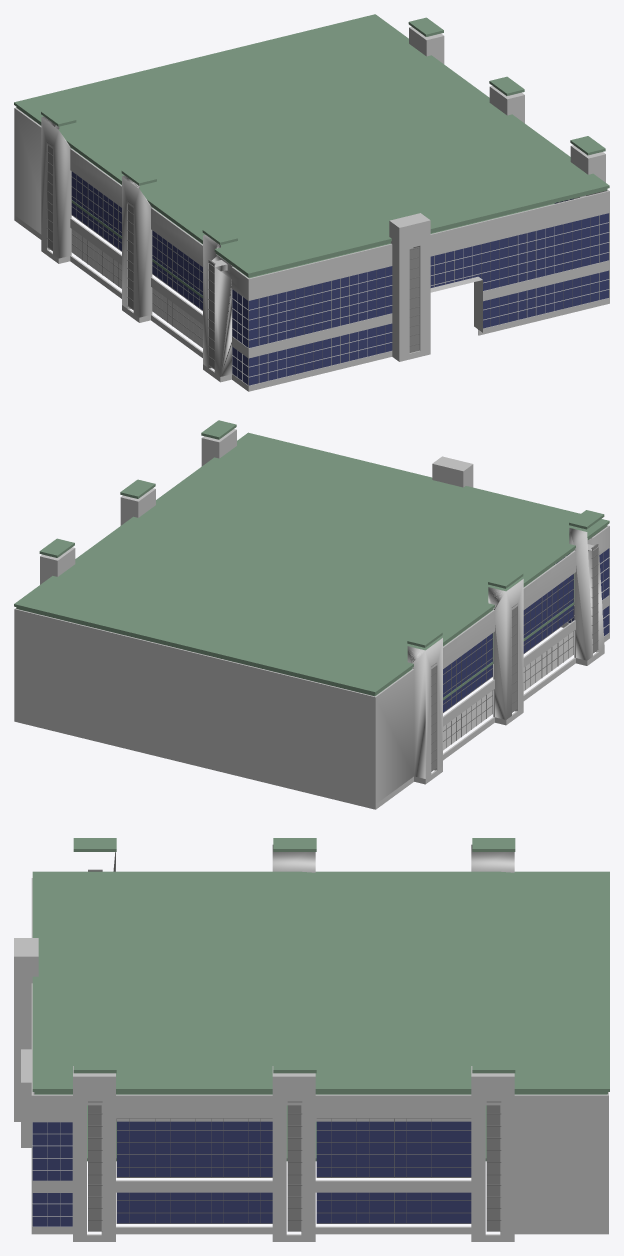
File: buliding.FBX
3 renders of one model, top to bottom at view 1: azimuth 30°, elevation 25°; view 2: azimuth 150°, elevation 25°; view 3: azimuth 270°, elevation 25°, orthographic. The views are drawn at different scales.
Visible parts, largest first — view 1: Rectangle14, bool, Rectangle102, Rectangle101, Rectangle143, Rectangle03, Rectangle07, Rectangle92, Rectangle129, Rectangle116, Rectangle115; view 2: Rectangle14, bool, Rectangle102, Rectangle101, Rectangle03, Rectangle92, Rectangle129, Rectangle115, Rectangle116, Rectangle91, Rectangle07; view 3: Rectangle14, bool, Rectangle51, Rectangle10, Rectangle13, Rectangle63, Rectangle76, Rectangle03, Rectangle41, Rectangle07, Rectangle159, Rectangle158 (+5 smaller).
Part boxes in pixels (x1,y1,x2,y2): Rectangle14: [14, 14, 609, 276]; bool: [14, 27, 609, 391]; Rectangle102: [71, 171, 202, 310]; Rectangle101: [71, 229, 202, 347]; Rectangle143: [409, 248, 419, 352]; Rectangle03: [16, 107, 607, 277]; Rectangle07: [71, 148, 554, 298]; Rectangle92: [76, 175, 199, 308]; Rectangle129: [208, 261, 214, 368]; Rectangle116: [47, 145, 52, 250]; Rectangle115: [128, 204, 133, 309]; Rectangle14: [14, 432, 609, 694]; bool: [14, 429, 609, 809]; Rectangle102: [443, 574, 573, 712]; Rectangle101: [443, 631, 573, 750]; Rectangle03: [16, 525, 607, 696]; Rectangle92: [446, 574, 573, 710]; Rectangle129: [592, 545, 598, 652]; Rectangle115: [512, 607, 517, 711]; Rectangle116: [431, 666, 436, 770]; Rectangle91: [446, 631, 573, 747]; Rectangle07: [375, 565, 574, 700]; Rectangle14: [32, 871, 609, 1091]; bool: [14, 844, 608, 1241]; Rectangle51: [117, 1121, 471, 1176]; Rectangle10: [117, 1192, 471, 1223]; Rectangle13: [287, 1105, 301, 1230]; Rectangle63: [486, 1105, 500, 1230]; Rectangle76: [88, 1105, 101, 1230]; Rectangle03: [34, 1092, 607, 1094]; Rectangle41: [116, 1118, 431, 1177]; Rectangle07: [35, 1094, 606, 1161]; Rectangle159: [273, 1059, 316, 1073]; Rectangle158: [73, 1059, 116, 1073].
Size of the model in its own units: 1010552 by 349007 by 1097099.
